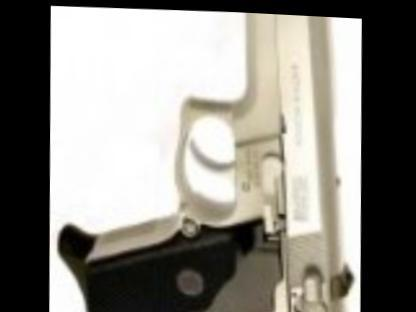pistol: (54, 2, 364, 311)
